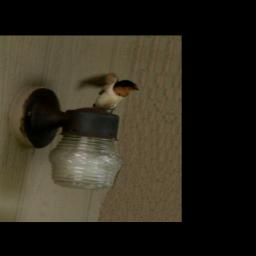Swallow: (71, 68, 142, 116)
